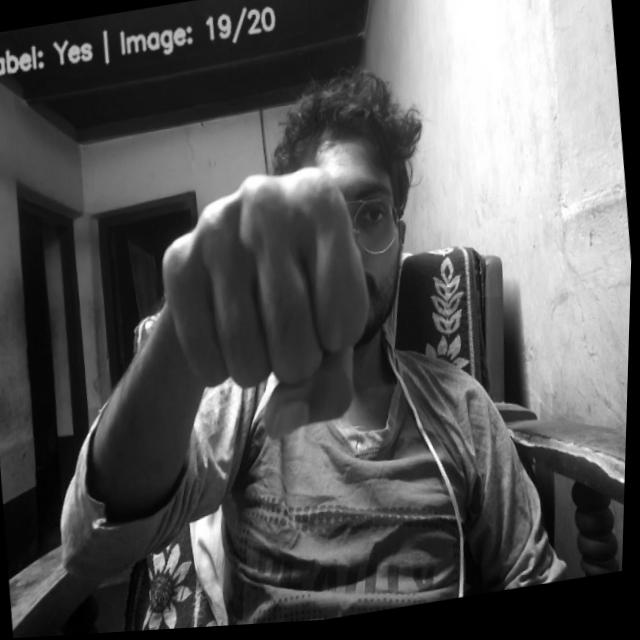Yes: (154, 158, 389, 462)
